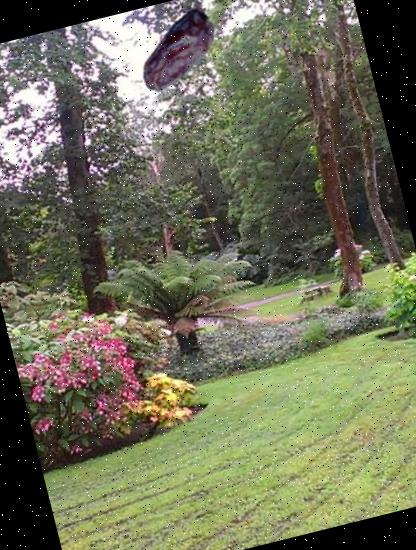Dates: (122, 0, 235, 109)
